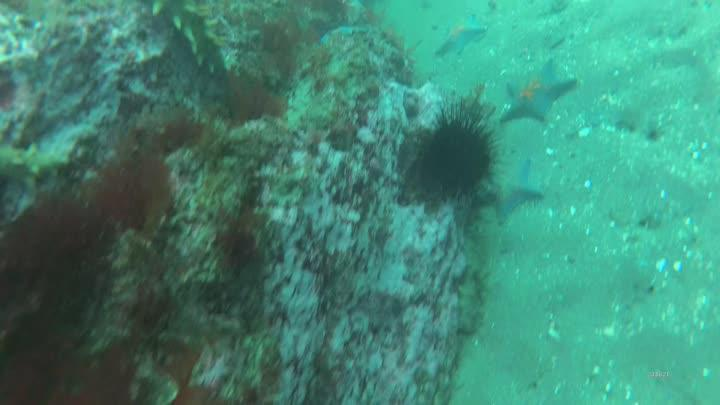urchin: (409, 99, 508, 199)
